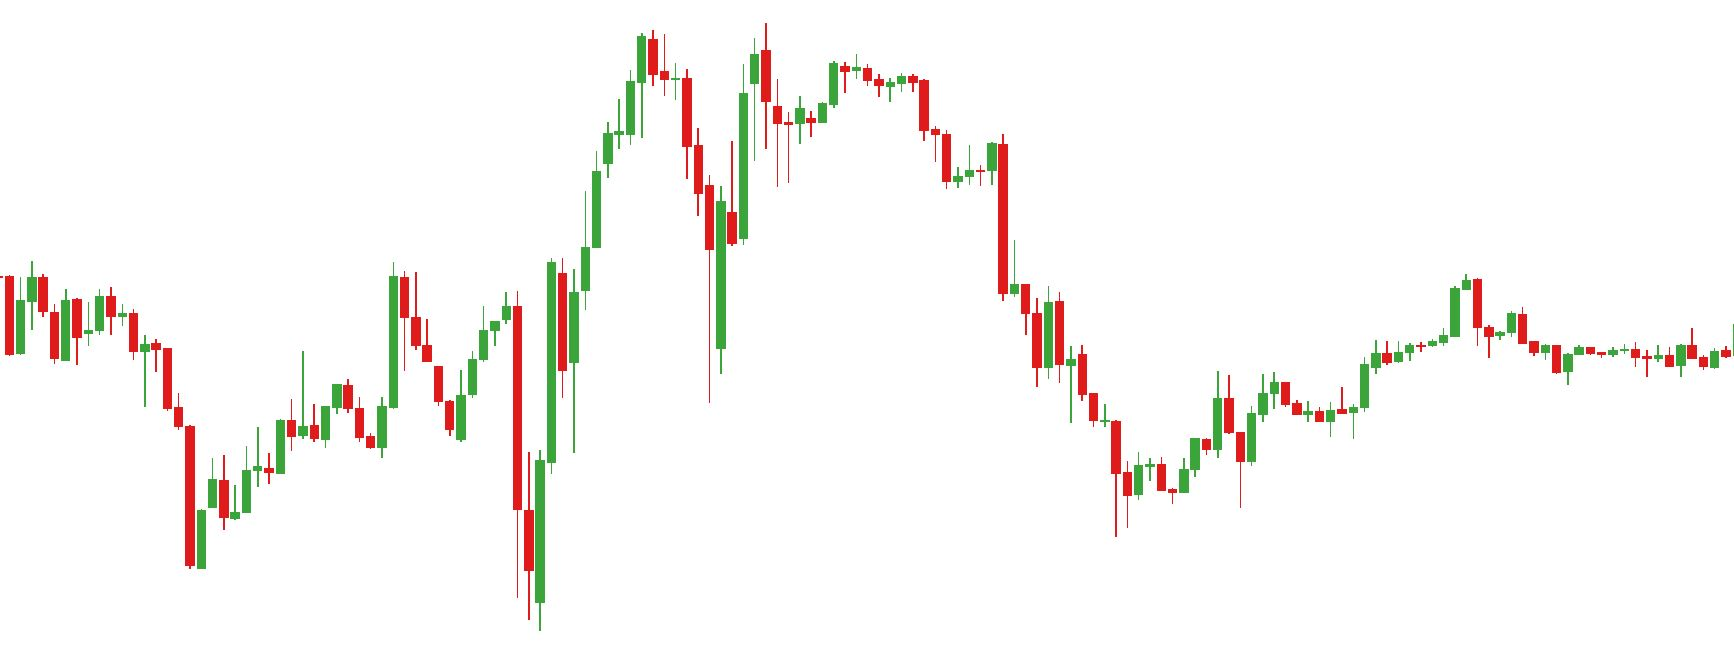buy: (195, 389, 547, 625), (1168, 425, 1249, 516)
sell: (682, 27, 773, 196)
